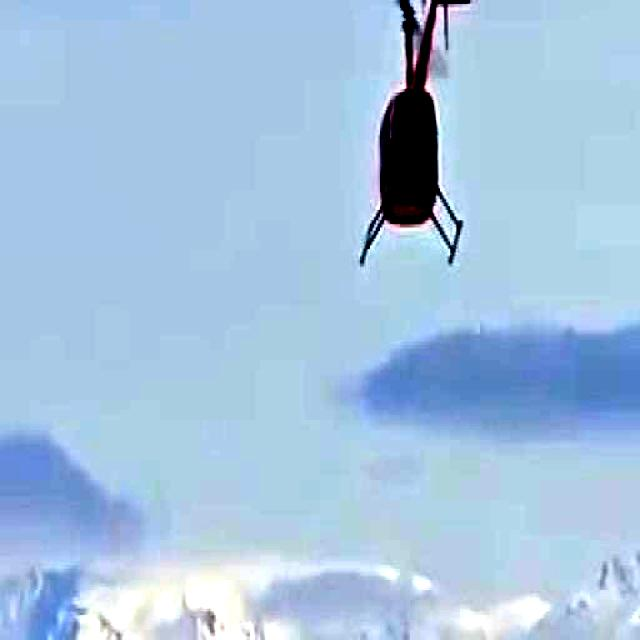drone: (352, 0, 488, 294)
